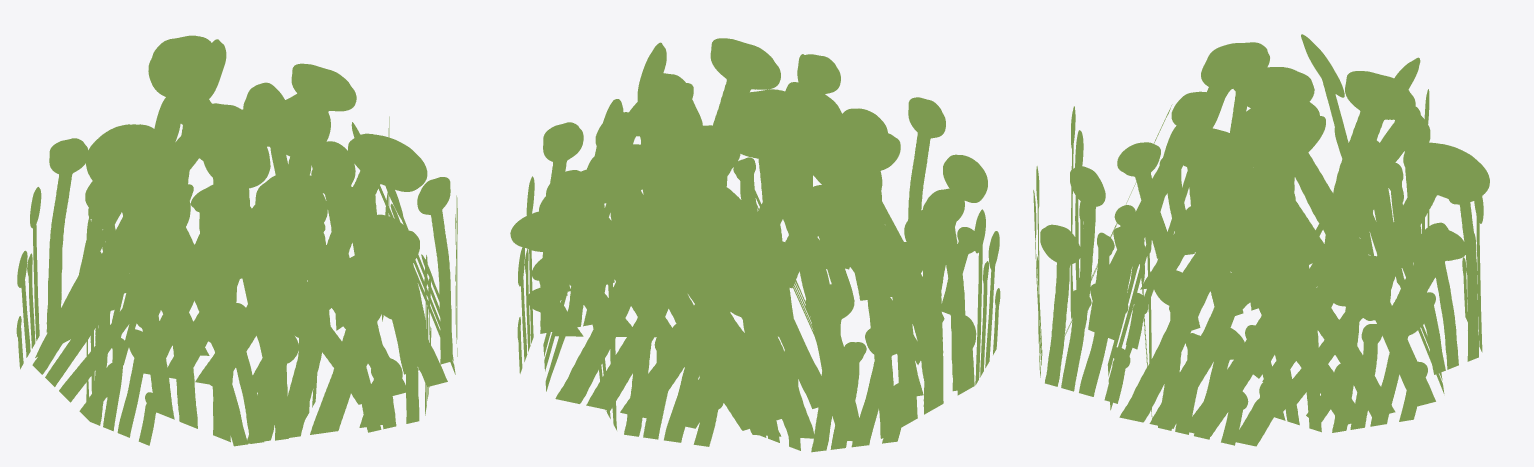
File: SM_Moss_03.fbx
The picture shows the model from 3 angles, left to right: view 1: azimuth 30°, elevation 25°; view 2: azimuth 150°, elevation 25°; view 3: azimuth 270°, elevation 25°; orthographic projection. The views are drawn at different scales.
Parts seen in each view (by area): view 1: SM_Moss_03; view 2: SM_Moss_03; view 3: SM_Moss_03.
Part boxes in pixels (box(x1,y1,x2,y2)): SM_Moss_03: box(16, 35, 457, 446); SM_Moss_03: box(510, 38, 1000, 452); SM_Moss_03: box(1033, 34, 1489, 446).
Size of the model in its own units: 23.69 by 15.86 by 23.47.
